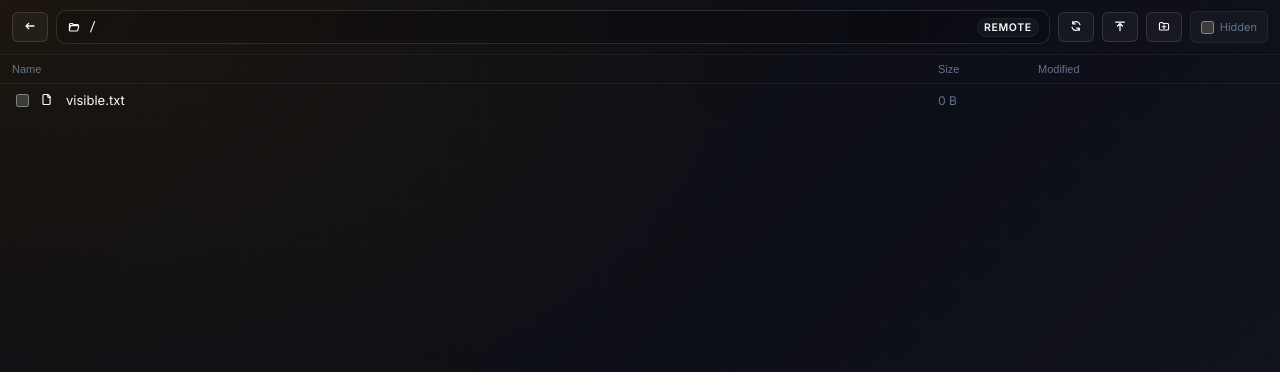
it: FileBrowser › hidden files are filtered by default and revealed when toggled
Expected: the text ".hidden" is not shown
Expected: the text "visible.txt" is shown, [66, 92, 125, 108]
Click the checkbox named "show hidden".
click(1207, 27)  # box [1201, 20, 1214, 34]
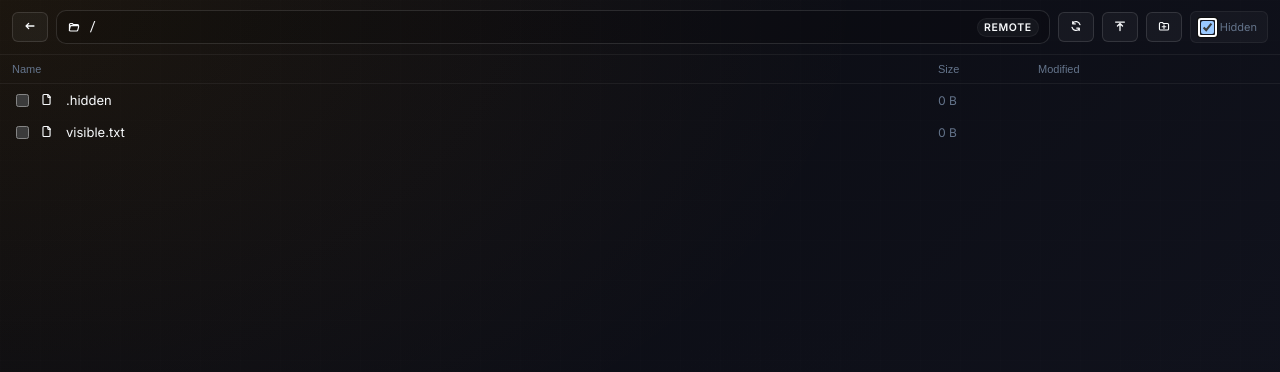
Now the text ".hidden" is shown, box [66, 92, 112, 108]
